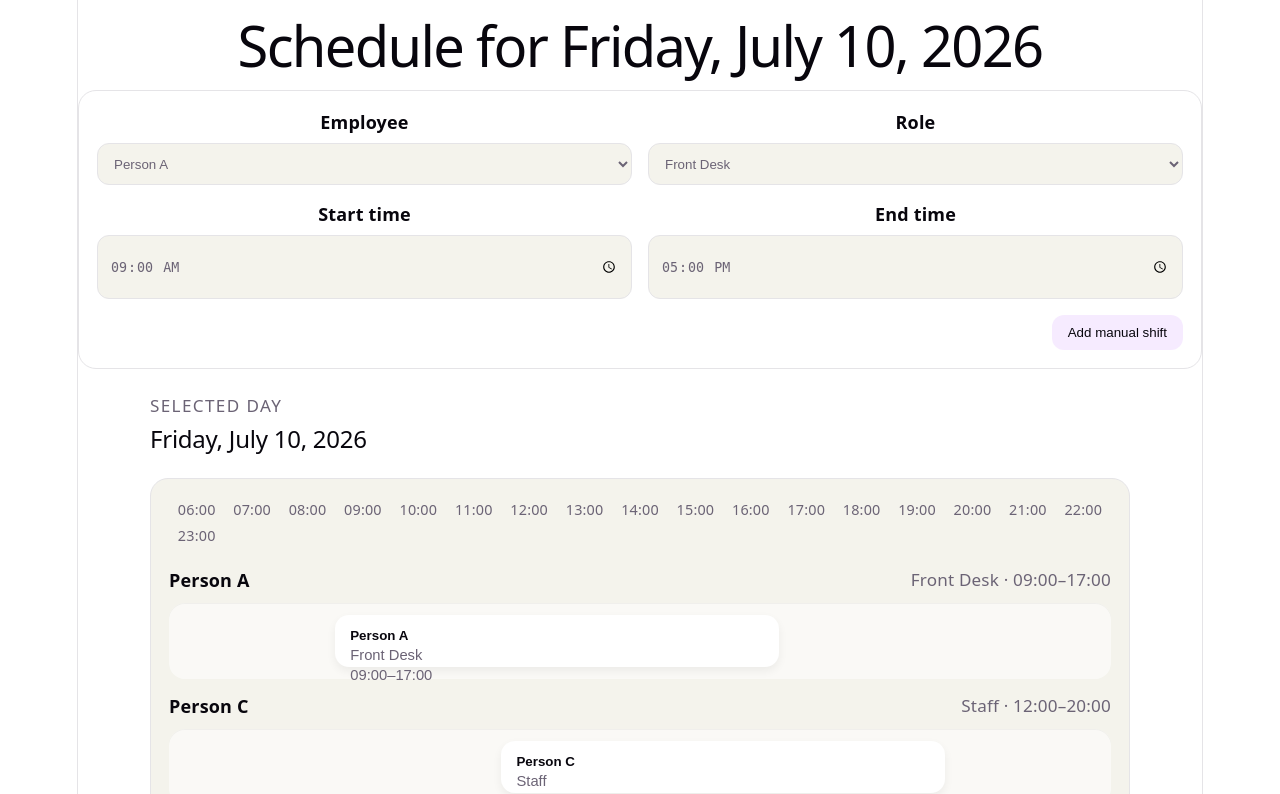
Test: ScheduleDatePage › creates a manual shift for the selected date and adds it to the timeline immediately
Select "Person B" in the dropdown labelled "Employee" at (364, 164), box x1=97 y1=143 x2=632 y2=185
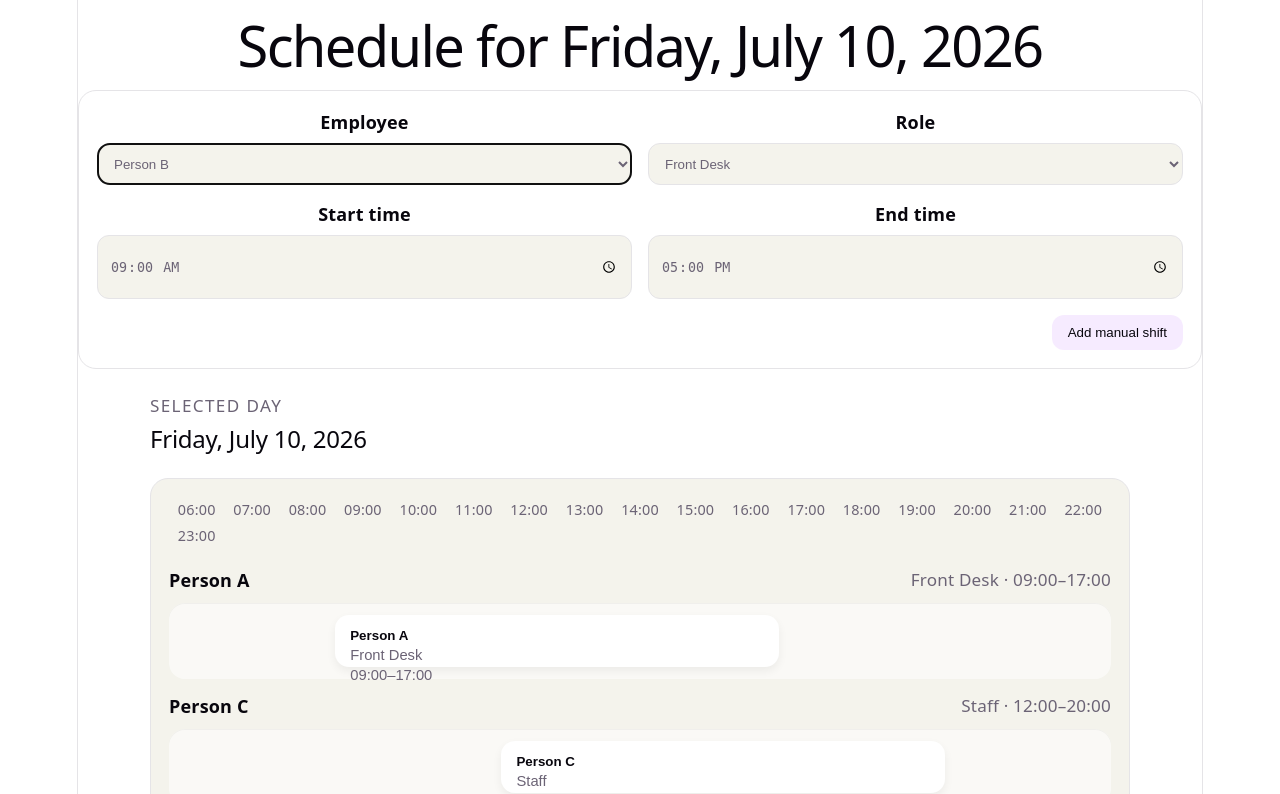
Select "Trainer" in the dropdown labelled "Role" at (916, 164), box x1=648 y1=143 x2=1183 y2=185
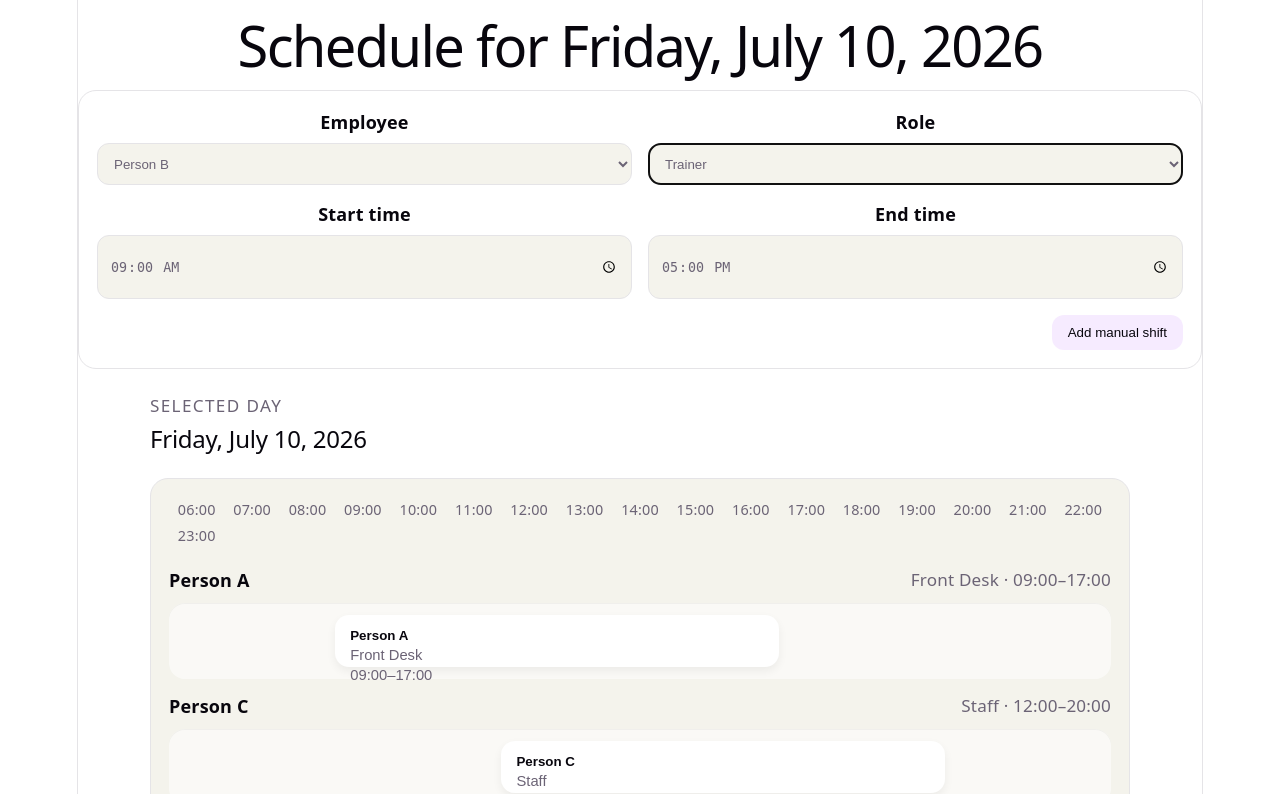
Replace the text in the time field labelled "Start time" with "08:00" at (364, 267), box x1=97 y1=235 x2=632 y2=299
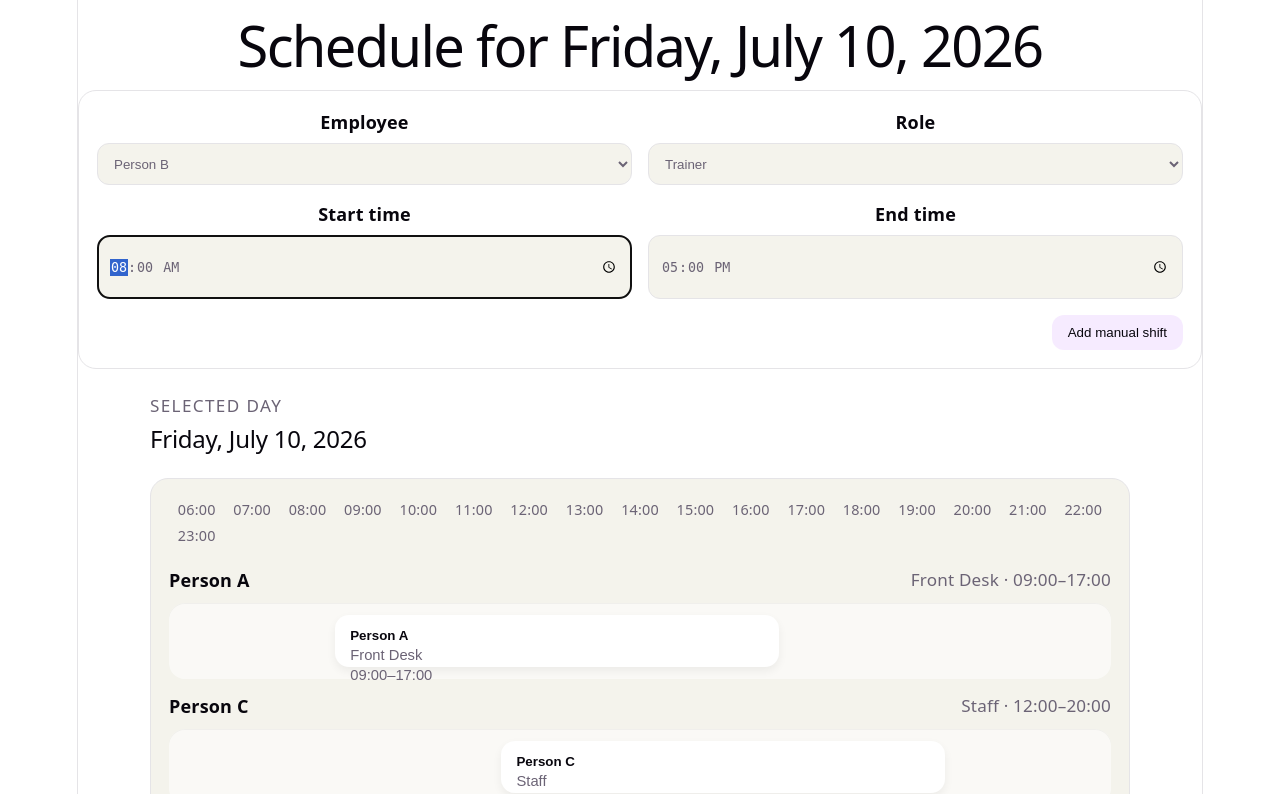
Replace the text in the time field labelled "End time" with "16:00" at (916, 267), box x1=648 y1=235 x2=1183 y2=299
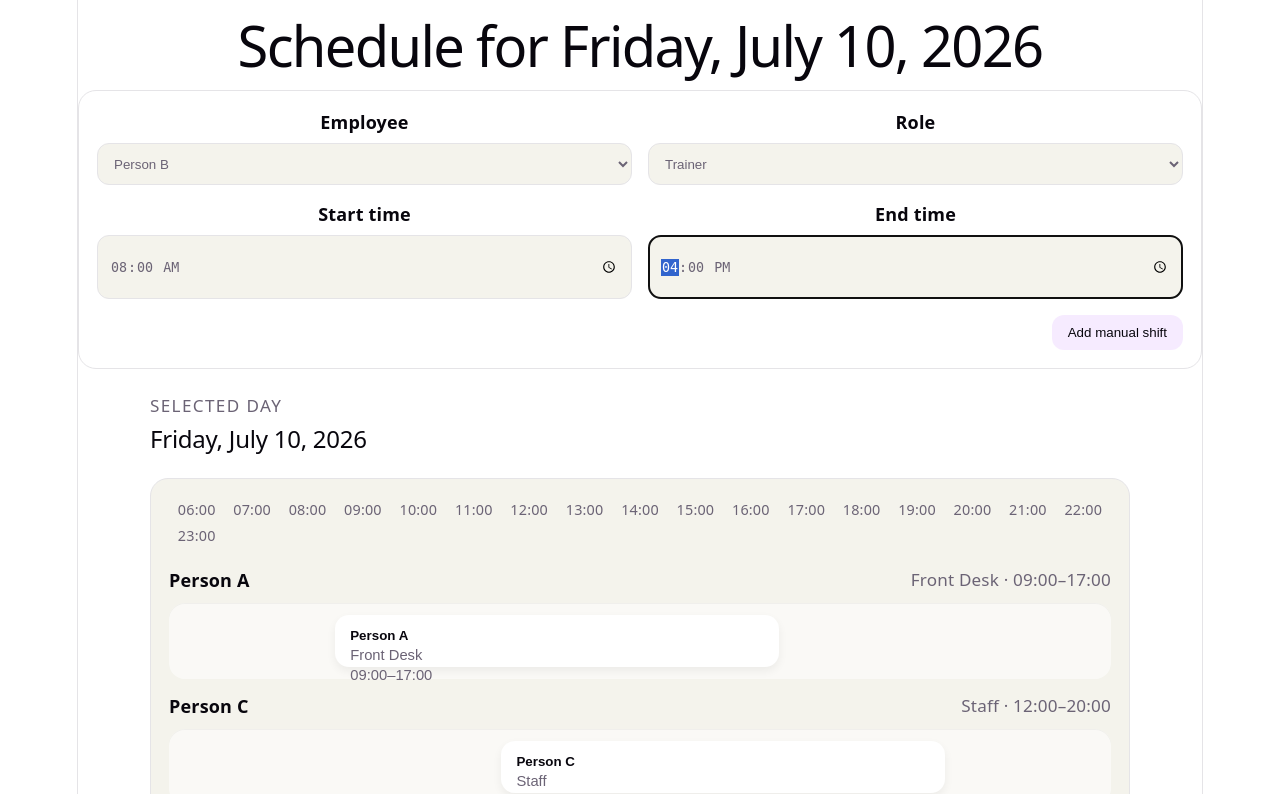
Click the button "Add manual shift" at (1117, 333), box x1=1052 y1=315 x2=1183 y2=350
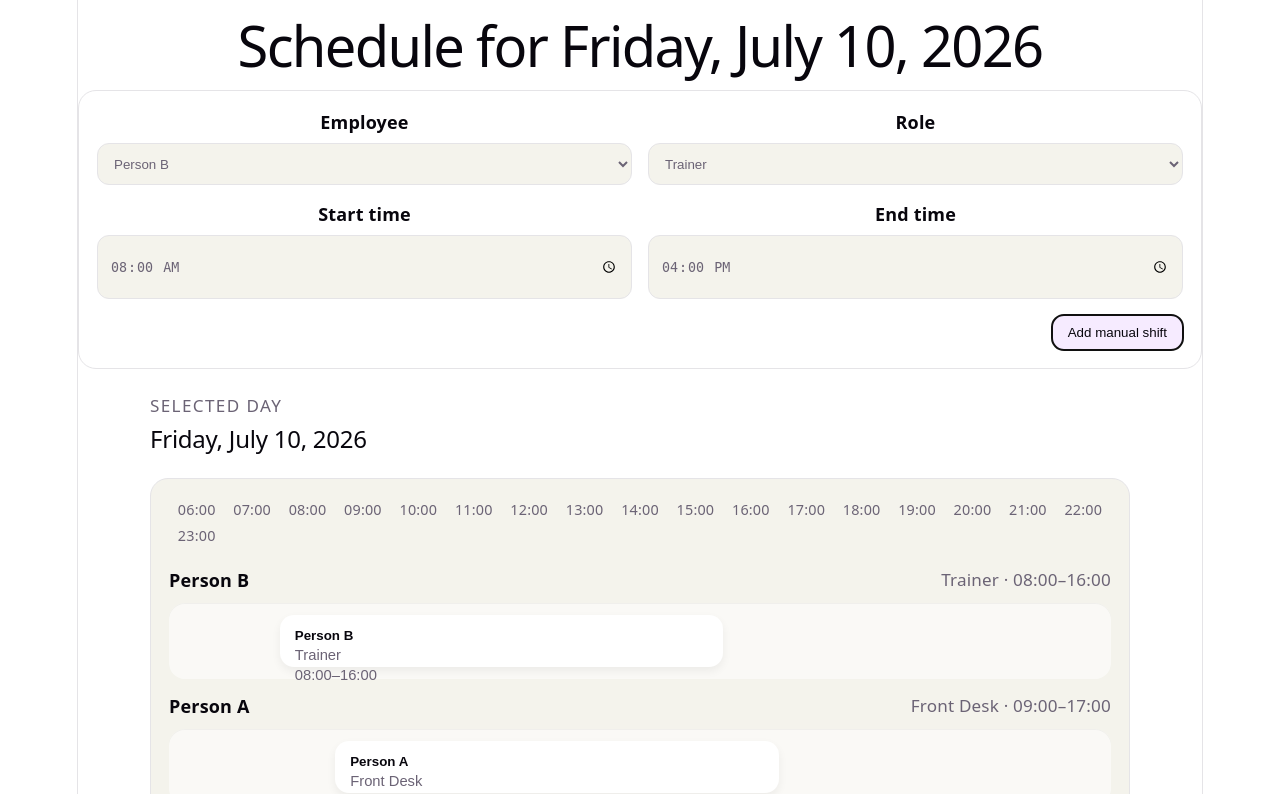
Result: the button with aria-label "Actions for Person B shift from 08:00 to 16:00" is shown at x1=280 y1=615 x2=723 y2=667
